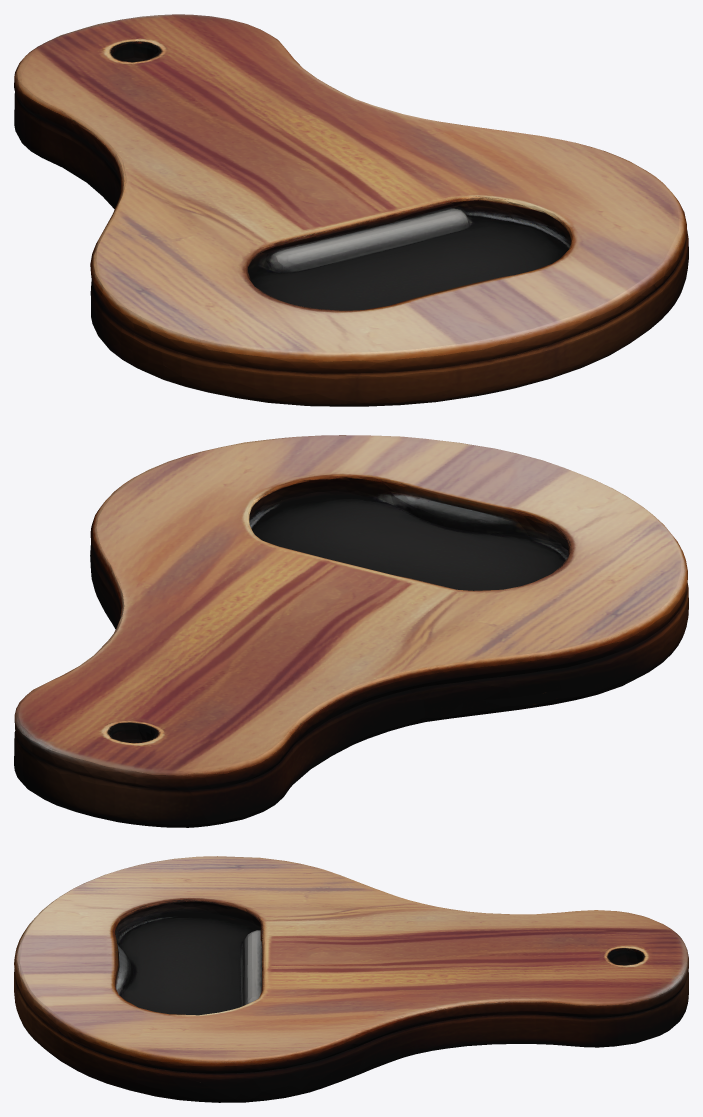
The model's file is wooden-bottle-opener-3d.jpeg.glb.
The picture shows the model from 3 angles, top to bottom: view 1: azimuth 30°, elevation 25°; view 2: azimuth 150°, elevation 25°; view 3: azimuth 270°, elevation 25°; orthographic projection. The views are drawn at different scales.
Visible parts, largest first — view 1: world; view 2: world; view 3: world.
Boxes of the visible parts, bbox=[...] form: world: bbox=[14, 14, 688, 406]; world: bbox=[14, 435, 688, 827]; world: bbox=[14, 856, 688, 1102].
Size of the model in its own units: 0.7361 by 0.0745 by 1.
1 material, 1 textured.
